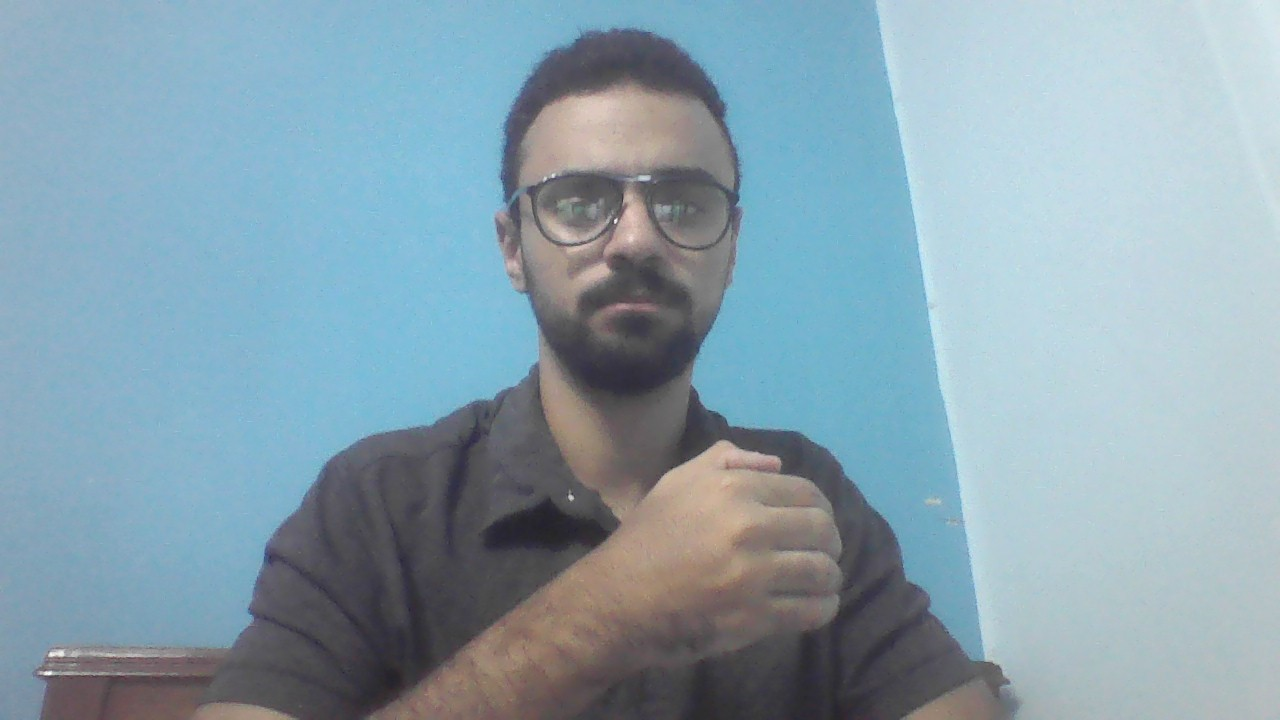drink: (616, 442, 854, 657)
